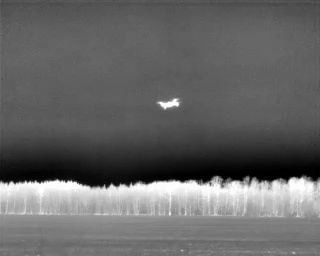DRONE: (154, 92, 184, 114)
